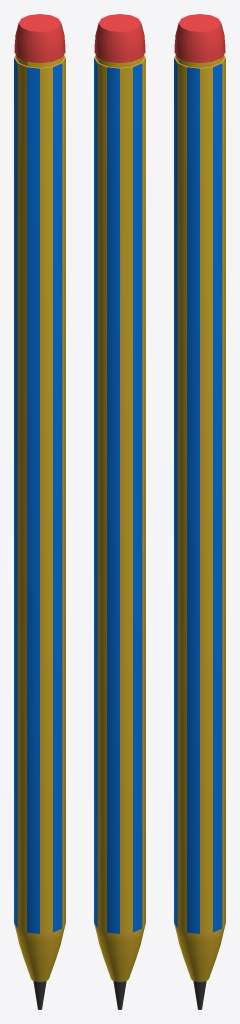
The model's file is Pencil.fbx.
3 renders of one model, left to right at view 1: azimuth 30°, elevation 25°; view 2: azimuth 150°, elevation 25°; view 3: azimuth 330°, elevation 25°, orthographic.
Parts seen in each view (by area): view 1: Pencil; view 2: Pencil; view 3: Pencil.
Boxes of the visible parts, left/top/right/bottom form: Pencil: left=14, top=14, right=65, bottom=1009; Pencil: left=94, top=14, right=145, bottom=1009; Pencil: left=174, top=14, right=225, bottom=1009.
Bounding box in the file's own units: 2.79 × 58.6 × 2.79.
